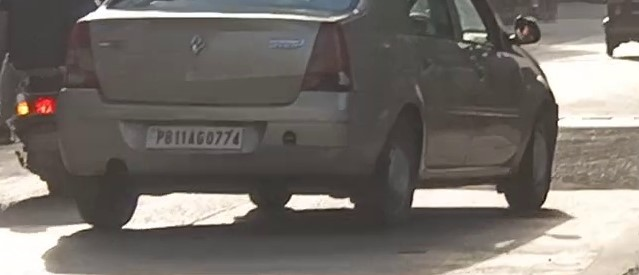PB11AG0774: (145, 125, 244, 151)
